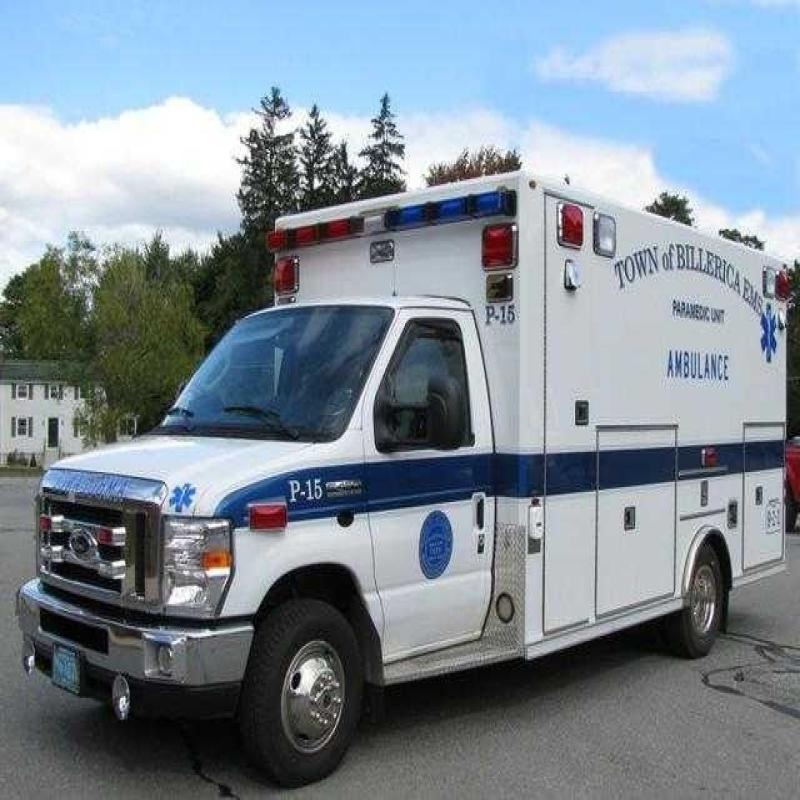AmbulanceSiren: (260, 168, 525, 268)
